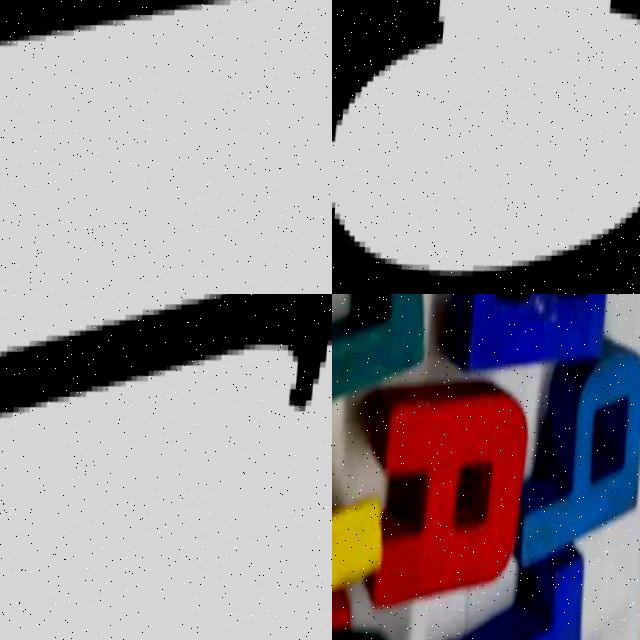1: (0, 294, 332, 576)
A: (372, 373, 533, 613)
B: (449, 294, 618, 371)
C: (332, 0, 640, 294)
D: (332, 294, 440, 447)
L: (332, 371, 403, 640)
P: (534, 341, 640, 574)
T: (444, 549, 597, 640)
